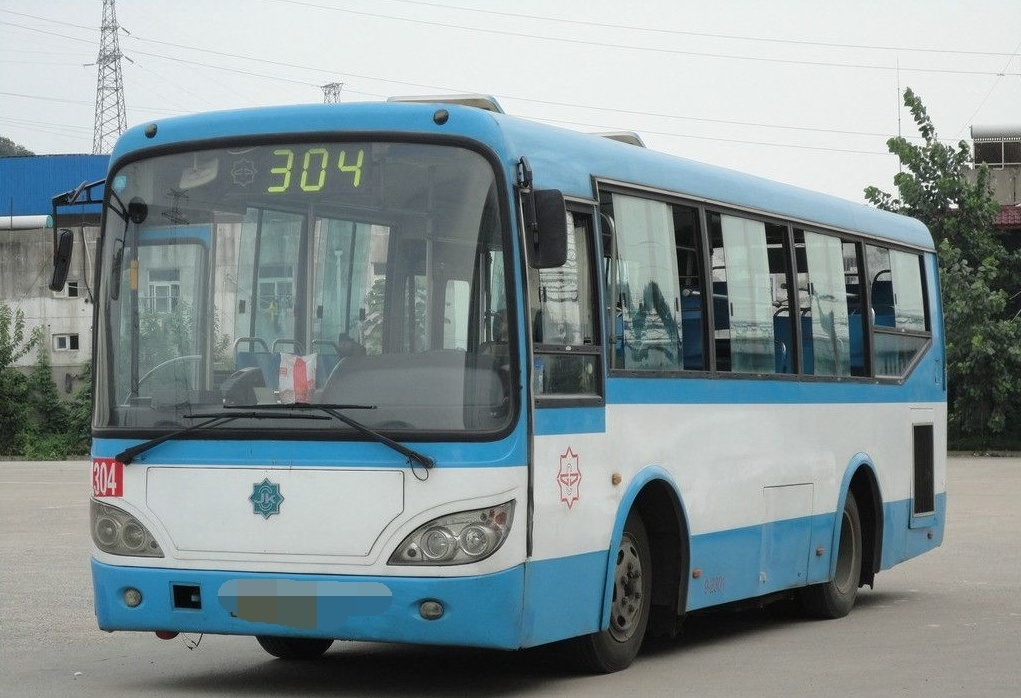bus: (73, 80, 947, 677)
